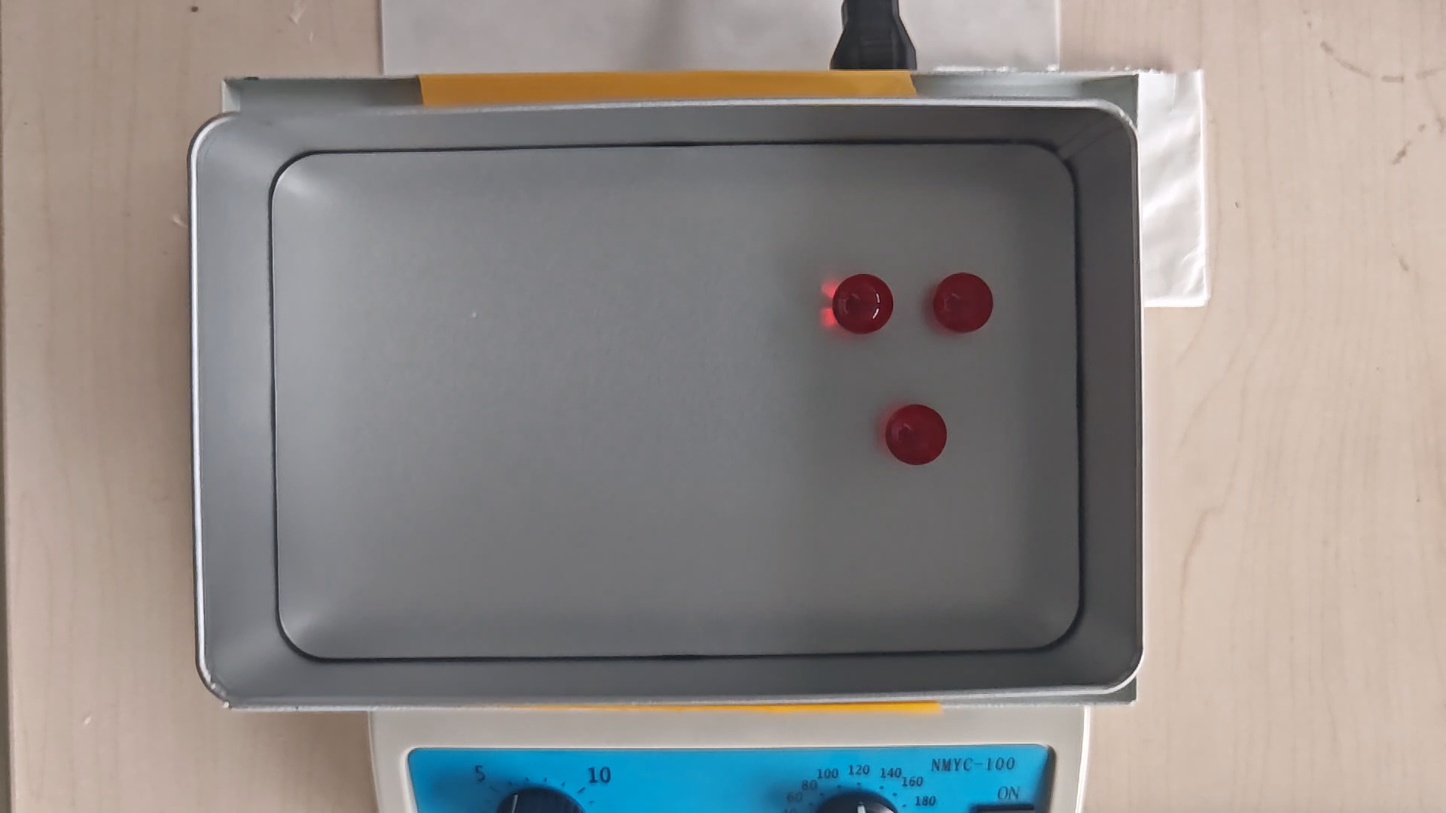ball: (932, 272, 995, 334), (833, 273, 894, 335), (888, 403, 946, 466)
container: (267, 142, 1084, 660)
